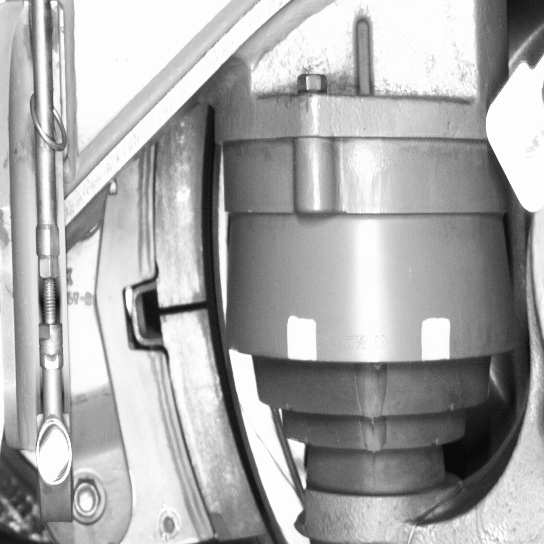KnifeSwitch: (154, 139, 291, 541)
